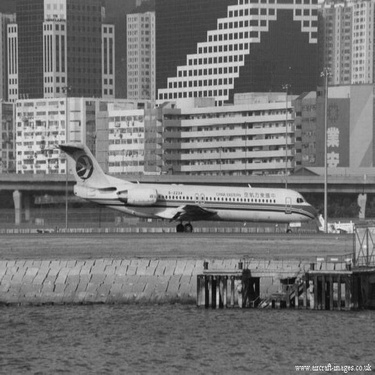airplane: (39, 118, 339, 248), (263, 174, 374, 241)
